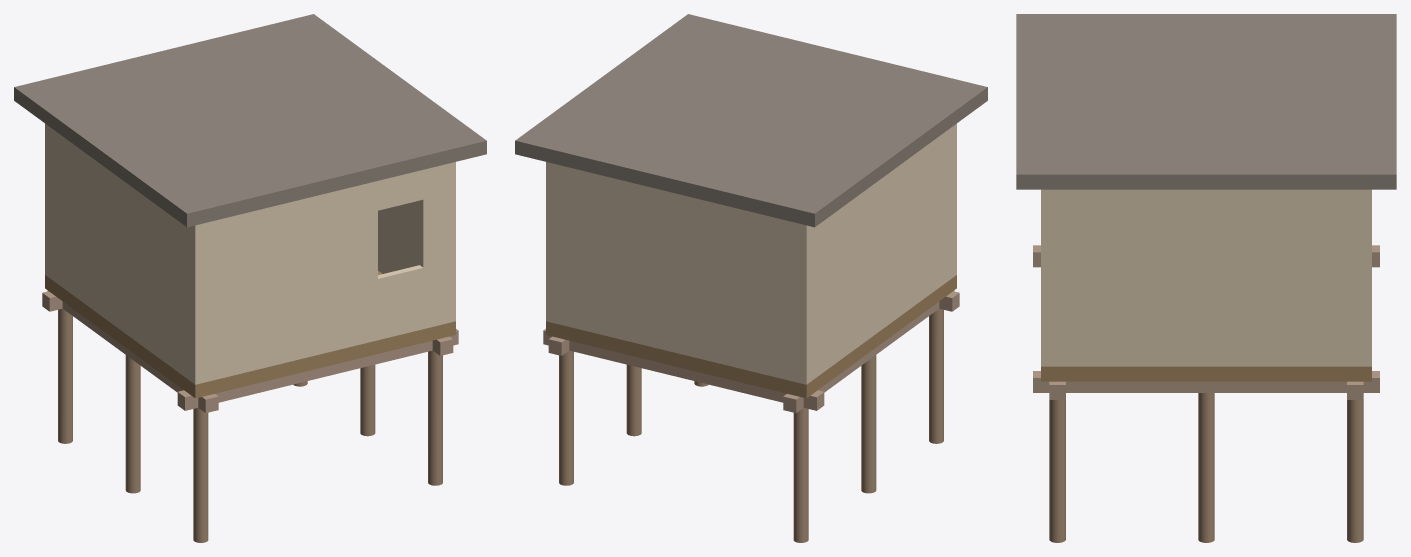
File: wooden_stilt_hut.gltf
3 views of the same model, side by side, from view 1: azimuth 30°, elevation 25°; view 2: azimuth 150°, elevation 25°; view 3: azimuth 270°, elevation 25° (orthographic). The views are drawn at different scales.
Parts seen in each view (by area): view 1: roof, wall_front_left, wall_left, floor_base, wall_front_right, wall_right, wall_front_bottom, support_beam_front, stilt_middle_left, stilt_front_left, stilt_front_right, stilt_back_left (+3 smaller); view 2: roof, wall_back, wall_left, floor_base, support_beam_back, stilt_middle_left, stilt_back_left, stilt_back_right, stilt_front_left, support_beam_left, wall_right, stilt_middle_right; view 3: roof, wall_right, floor_base, support_beam_right, stilt_middle_right, stilt_front_right, stilt_back_right.
Part boxes in pixels (bbox=[...]): roof: bbox=[14, 14, 486, 227]; wall_front_left: bbox=[202, 181, 377, 382]; wall_left: bbox=[45, 123, 201, 384]; floor_base: bbox=[45, 271, 455, 398]; wall_front_right: bbox=[419, 163, 449, 328]; wall_right: bbox=[378, 162, 455, 322]; wall_front_bottom: bbox=[378, 265, 423, 340]; support_beam_front: bbox=[177, 329, 458, 410]; stilt_middle_left: bbox=[125, 355, 140, 493]; stilt_front_left: bbox=[193, 408, 208, 542]; stilt_front_right: bbox=[428, 350, 442, 485]; stilt_back_left: bbox=[58, 308, 72, 443]; roof: bbox=[515, 14, 987, 227]; wall_back: bbox=[552, 163, 799, 382]; wall_left: bbox=[800, 123, 956, 384]; floor_base: bbox=[546, 275, 956, 398]; support_beam_back: bbox=[543, 329, 824, 410]; stilt_middle_left: bbox=[861, 355, 876, 493]; stilt_back_left: bbox=[793, 408, 808, 542]; stilt_back_right: bbox=[559, 350, 573, 485]; stilt_front_left: bbox=[929, 308, 943, 443]; support_beam_left: bbox=[783, 290, 954, 412]; wall_right: bbox=[546, 162, 552, 322]; stilt_middle_right: bbox=[626, 364, 641, 436]; roof: bbox=[1016, 14, 1396, 189]; wall_right: bbox=[1041, 189, 1371, 366]; floor_base: bbox=[1041, 366, 1371, 381]; support_beam_right: bbox=[1033, 371, 1379, 392]; stilt_middle_right: bbox=[1198, 393, 1214, 542]; stilt_front_right: bbox=[1049, 400, 1065, 542]; stilt_back_right: bbox=[1347, 400, 1363, 542].
Bounding box in the file's own units: 4.6 × 5.1 × 4.6.
